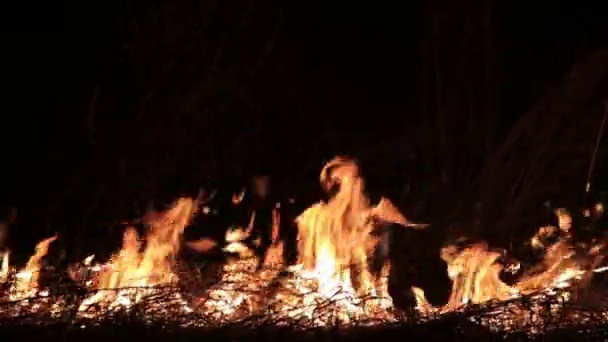fire: (269, 161, 402, 328), (77, 195, 194, 316), (439, 238, 510, 310), (202, 228, 255, 323), (530, 208, 581, 302), (1, 234, 49, 300), (410, 286, 428, 316)
